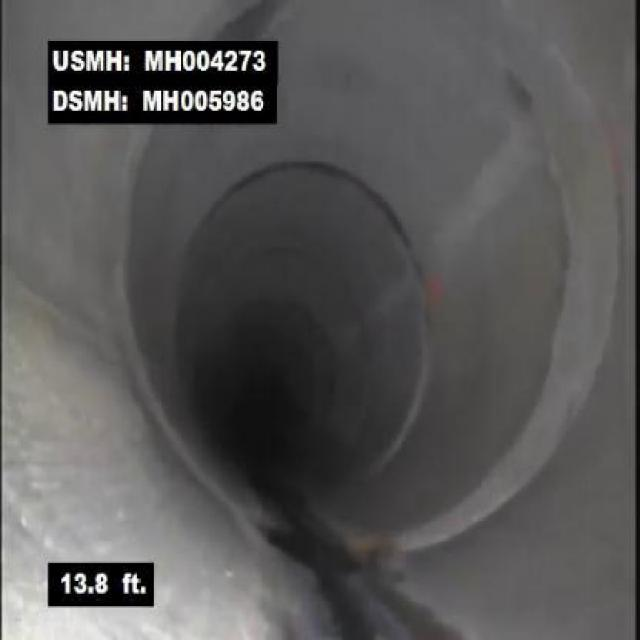Joint offset: (457, 43, 625, 589)
